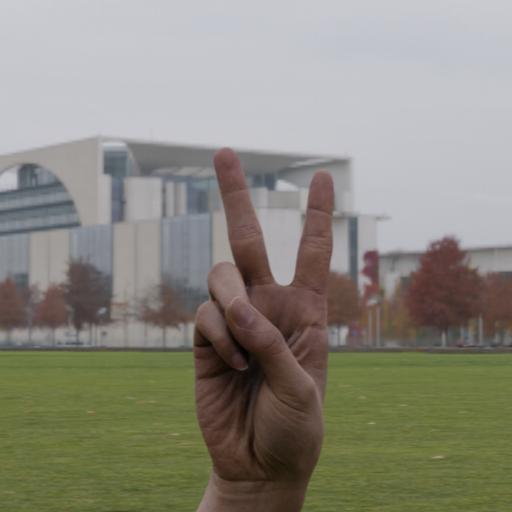V: (186, 143, 343, 493)
